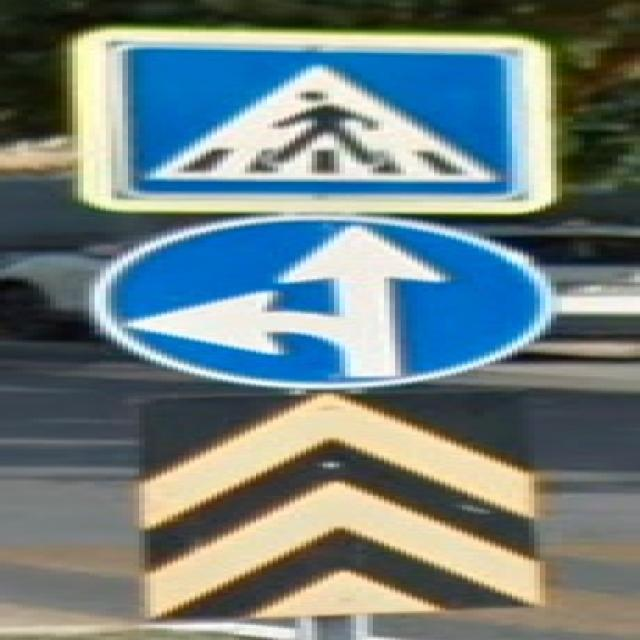Straight or Left: (96, 219, 552, 389)
